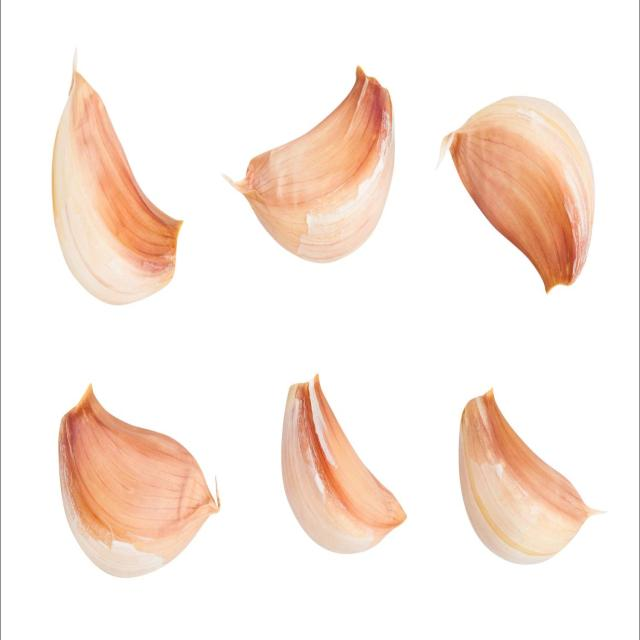garlic: (43, 68, 184, 310), (55, 378, 223, 579), (227, 67, 397, 264), (445, 93, 600, 296), (279, 369, 410, 561), (457, 390, 593, 570)
